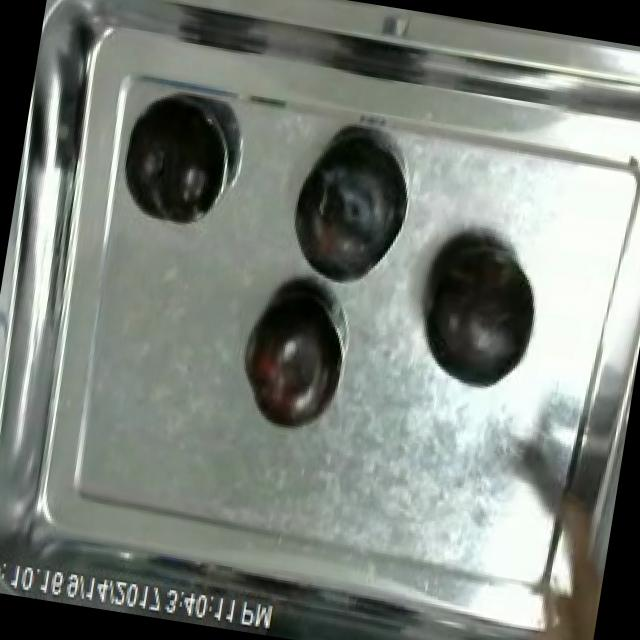Fruit: (407, 230, 552, 403), (281, 124, 421, 292), (228, 276, 351, 442), (115, 92, 234, 235)
